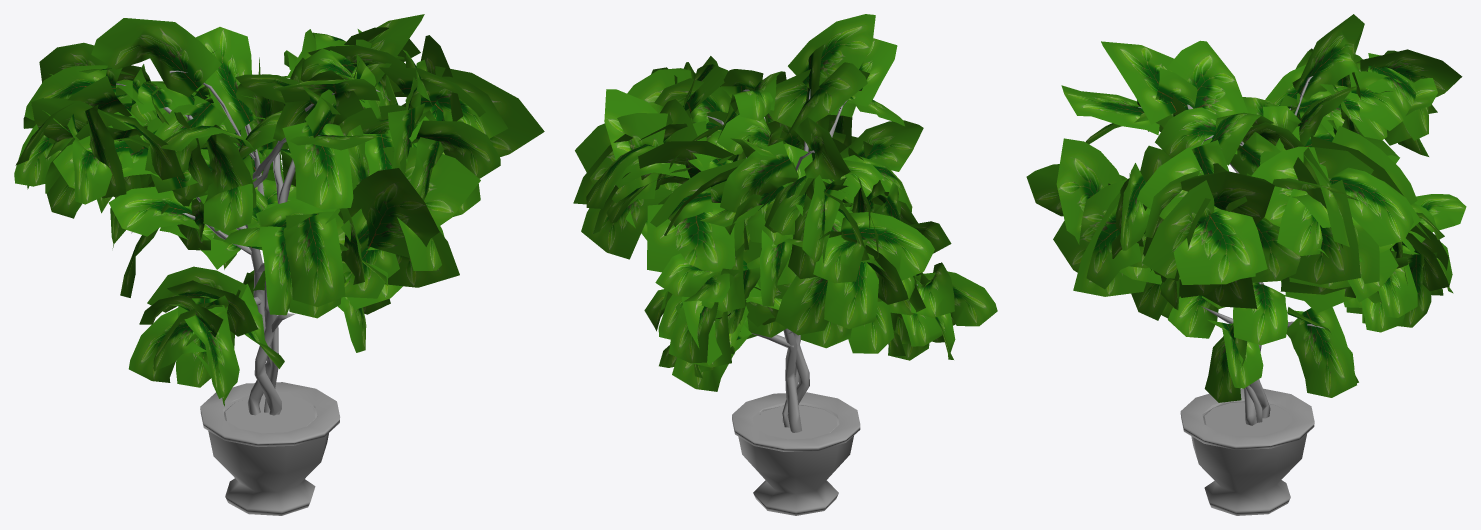
The model's file is Ficus_leaf_lod1.fbx.
The picture shows the model from 3 angles, left to right: view 1: azimuth 30°, elevation 25°; view 2: azimuth 150°, elevation 25°; view 3: azimuth 270°, elevation 25°; orthographic projection. The views are drawn at different scales.
Parts seen in each view (by area): view 1: Ficus_leaf_lod1; view 2: Ficus_leaf_lod1; view 3: Ficus_leaf_lod1.
Boxes of the visible parts, x1=… form: Ficus_leaf_lod1: x1=14, y1=14, x2=544, y2=515; Ficus_leaf_lod1: x1=573, y1=14, x2=997, y2=515; Ficus_leaf_lod1: x1=1026, y1=14, x2=1466, y2=515.
Bounding box in the file's own units: 154 × 169 × 147.
3 materials, 1 textured.
